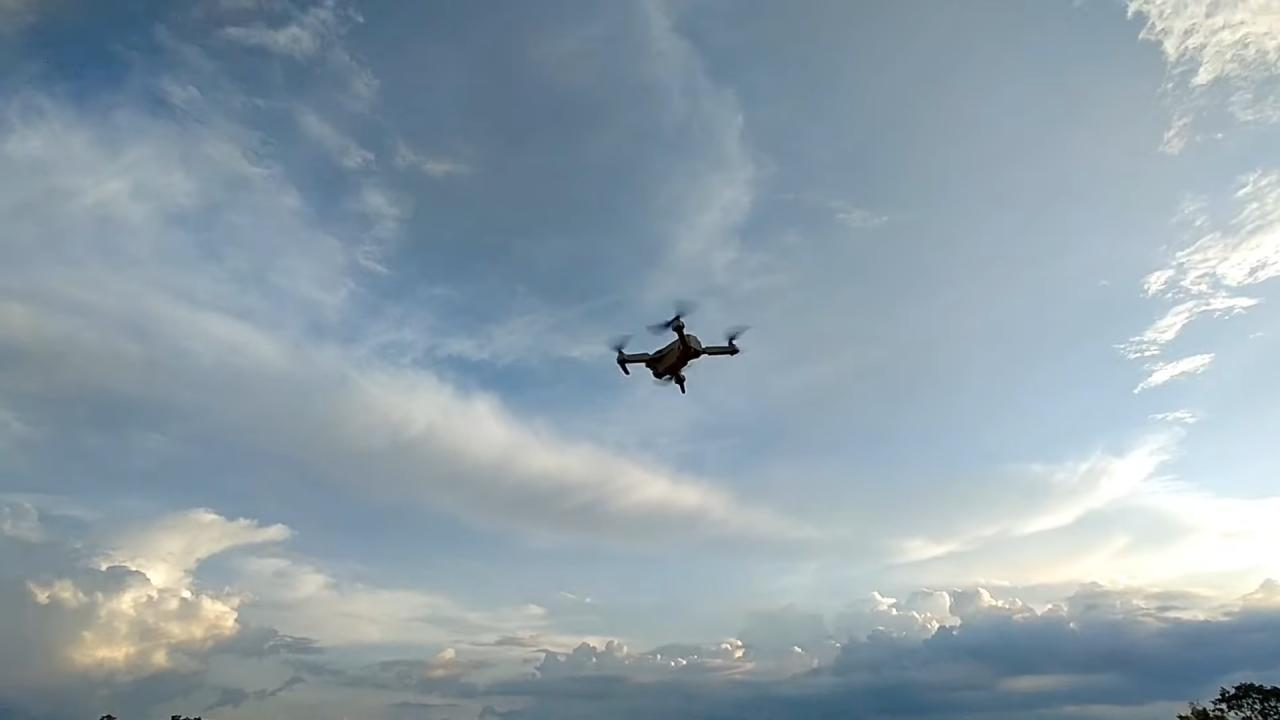Drone: (598, 290, 759, 403)
